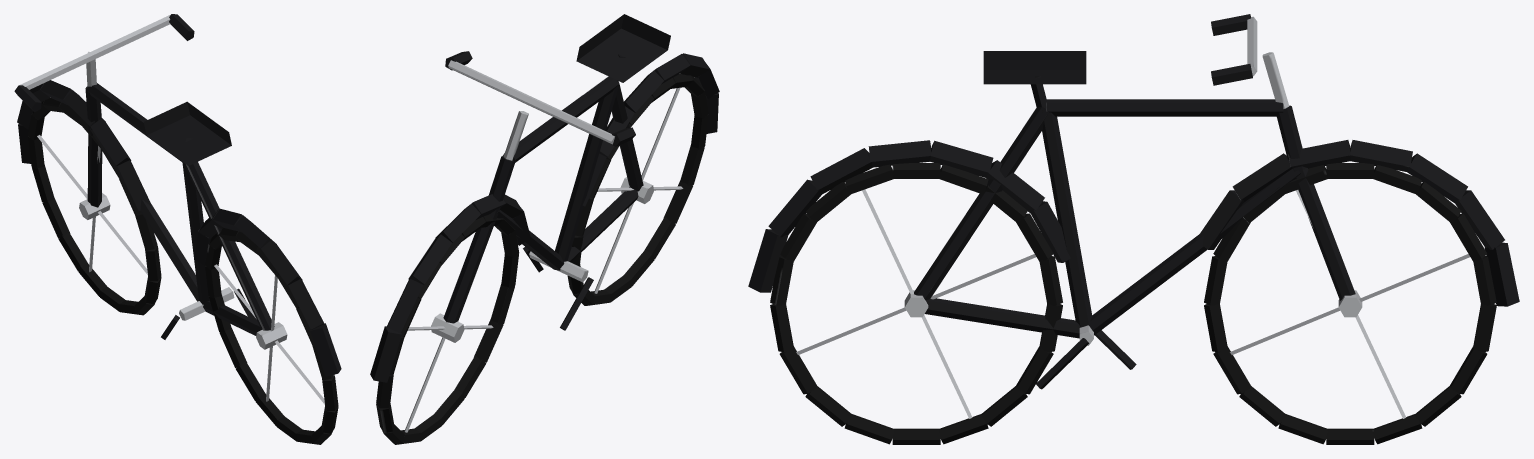
The model's file is kolo_49085622.glb.
3 views of the same model, side by side, from view 1: azimuth 30°, elevation 25°; view 2: azimuth 150°, elevation 25°; view 3: azimuth 270°, elevation 25° (orthographic). The views are drawn at different scales.
Parts seen in each view (by area): view 1: dum; view 2: dum; view 3: dum.
Part boxes in pixels (bbox=[...]): dum: bbox=[14, 14, 341, 444]; dum: bbox=[370, 14, 719, 444]; dum: bbox=[748, 14, 1519, 444].
Bounding box in the file's own units: 0.5906 × 1.09 × 1.95.
1 material, 1 textured.
